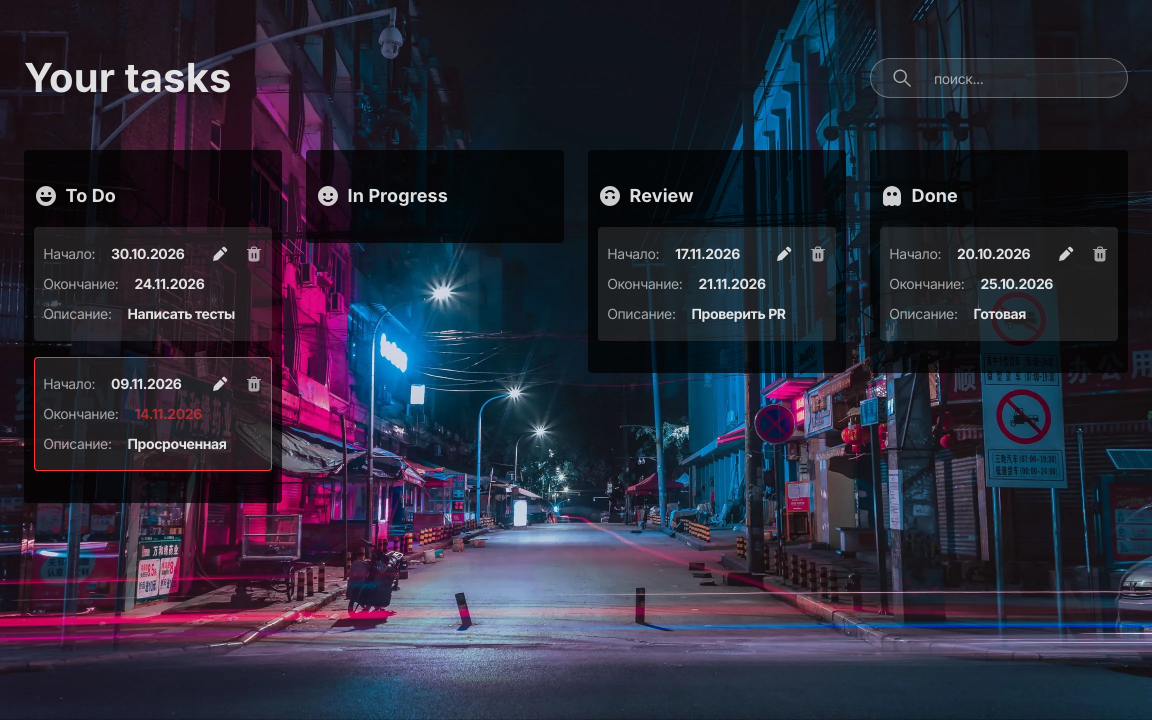
Test: удаление › после подтверждения удаляет задачу, сохраняет список и переводит фокус
Click the button named "Удалить задачу: Написать тесты": point(254, 254) [245,245,263,263]
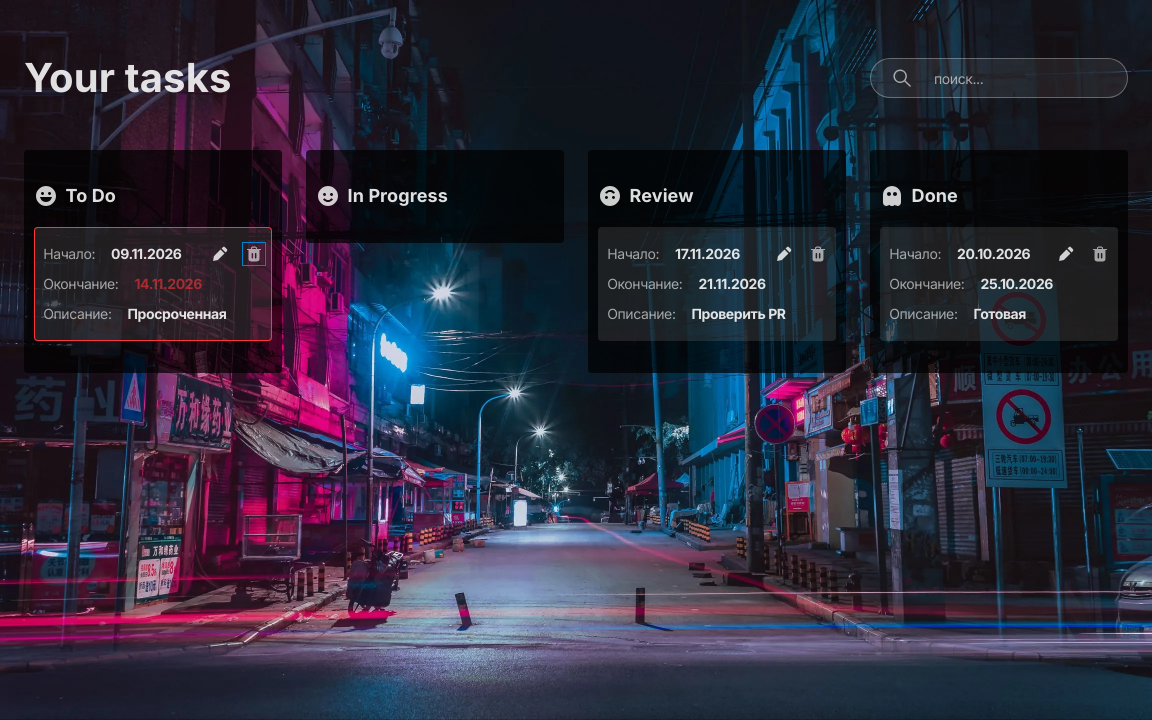
Check: the text "Написать тесты" is gone
